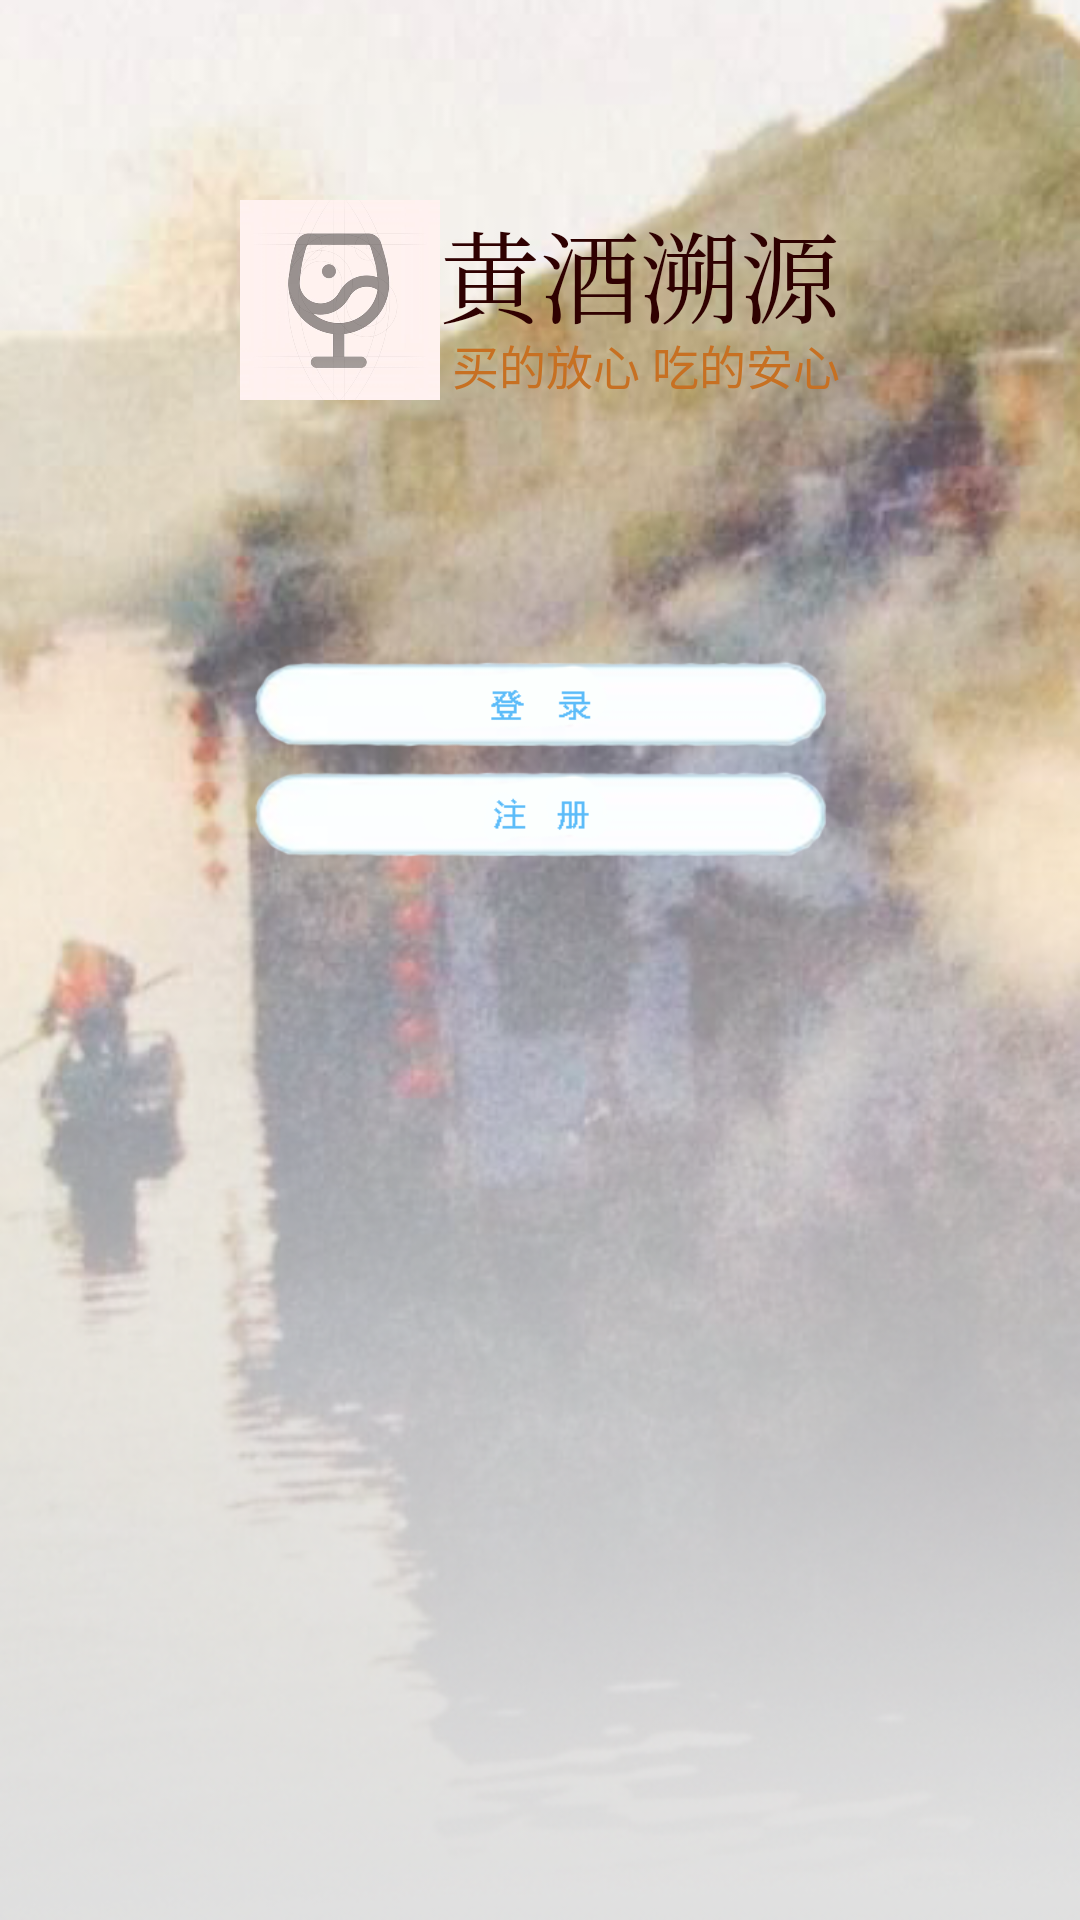

Icons on this 1080 × 1920 Android screen, each with the point to tap as point (x, y):
appicon: point (340, 300)
